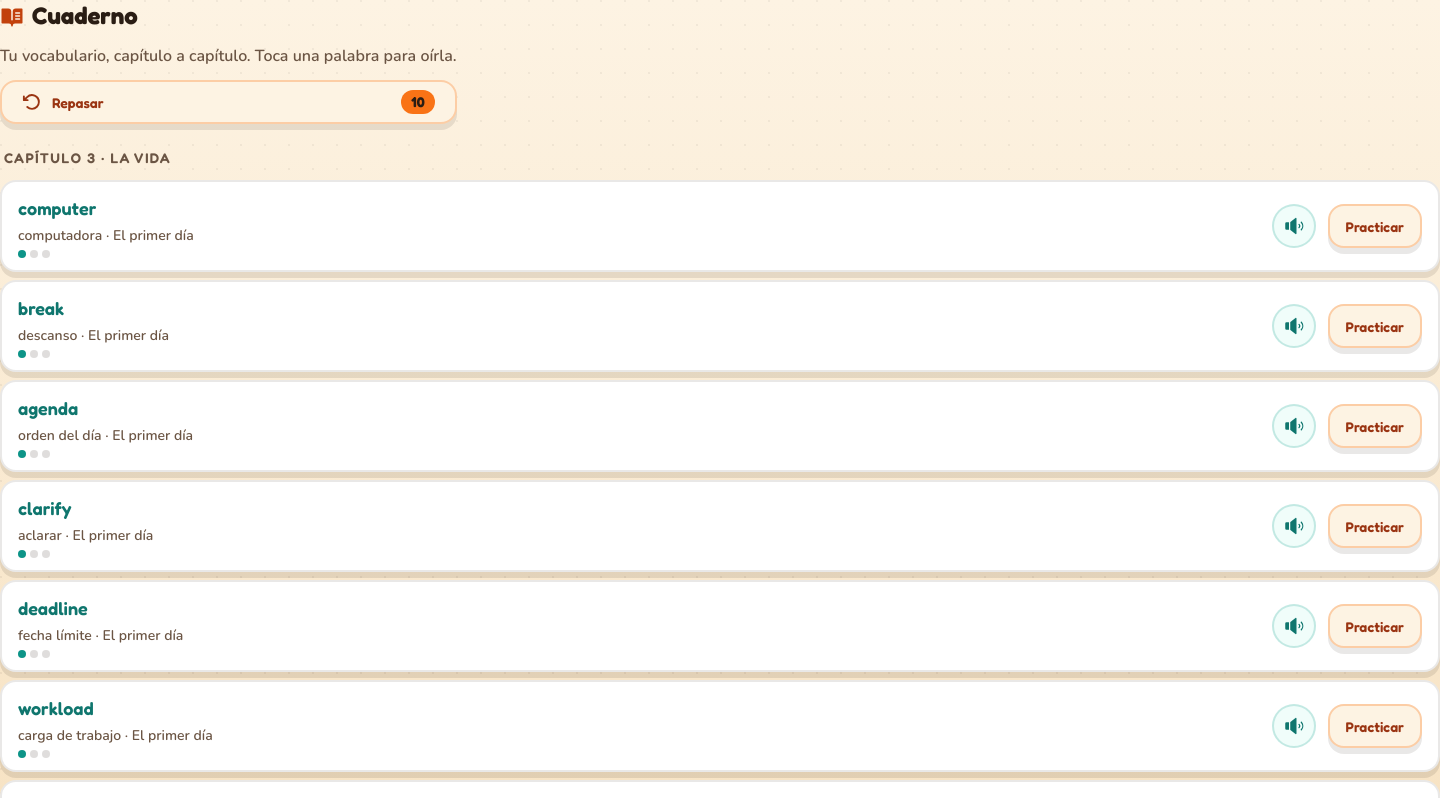
Test: Notebook practice › uses the profile of the word level
What coordinates should you click on to do the following:
click the button with aria-label "Practicar computer"
I would click on:
 (1375, 226)
Its box is [1328,204,1422,248].
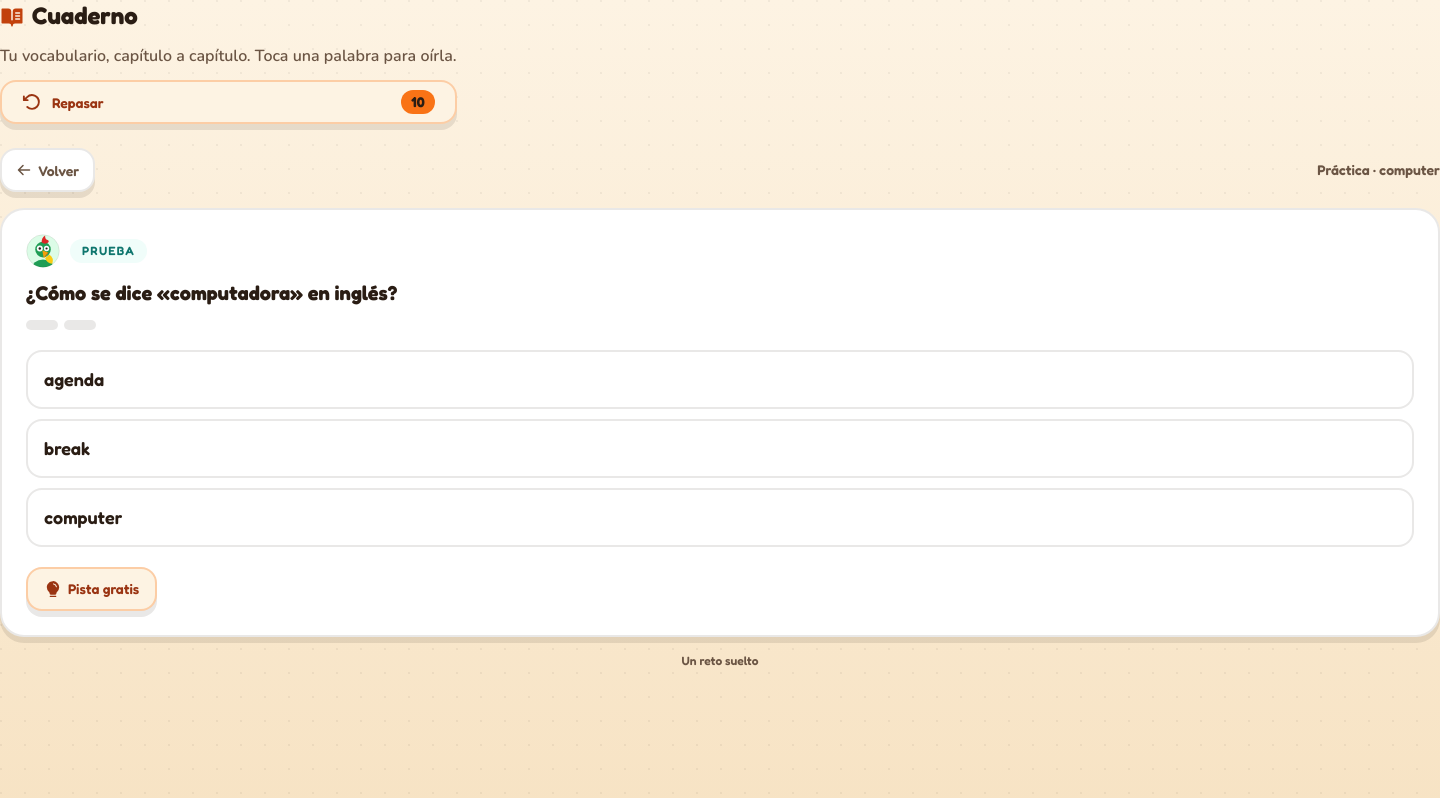
What coordinates should you click on to do the following:
click the button "break"
I would click on:
 (67, 448)
Its box is [26,418,1414,478].
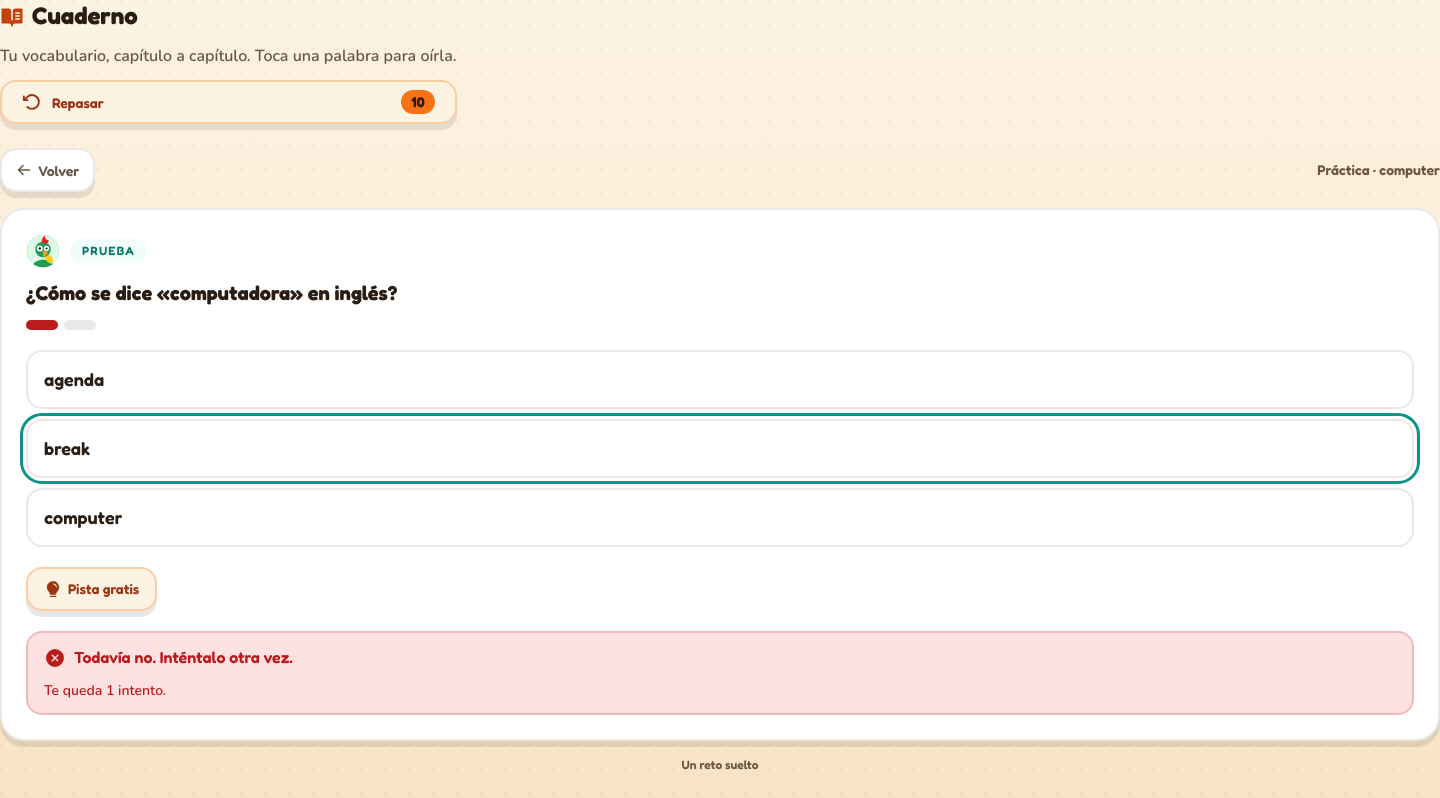
Expected: the text "Te queda 1 intento." is shown, [44,680,166,700]
